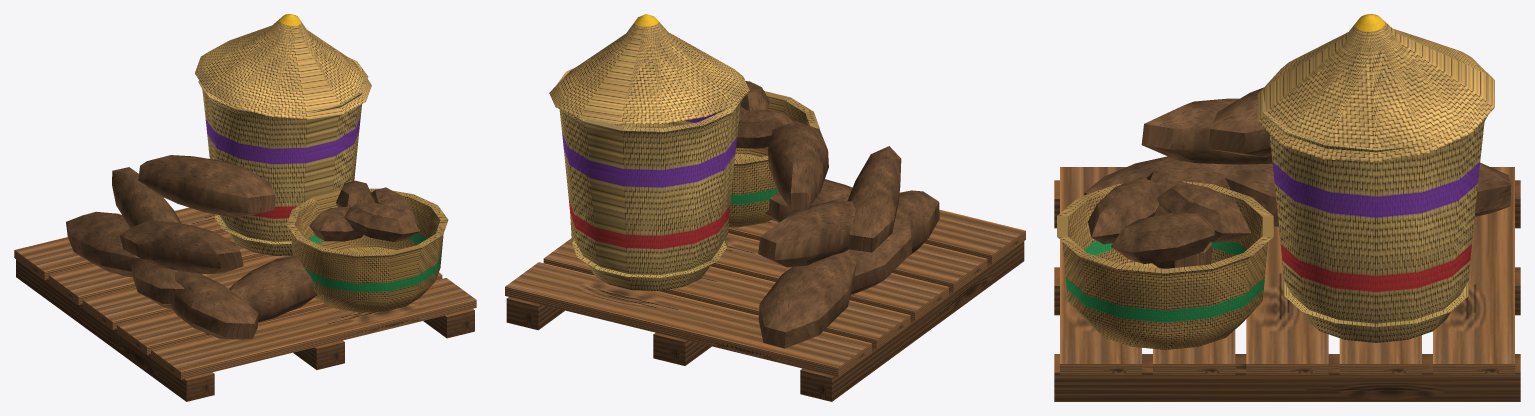
The model's file is mkt_soft_baskets.glb.
3 views of the same model, side by side, from view 1: azimuth 30°, elevation 25°; view 2: azimuth 150°, elevation 25°; view 3: azimuth 270°, elevation 25° (orthographic). The views are drawn at different scales.
Parts seen in each view (by area): view 1: mkt_soft_baskets_body; view 2: mkt_soft_baskets_body; view 3: mkt_soft_baskets_body.
Boxes of the visible parts, x1,y1,x2,y2 form: mkt_soft_baskets_body: [14, 14, 476, 401]; mkt_soft_baskets_body: [505, 14, 1025, 401]; mkt_soft_baskets_body: [1054, 14, 1520, 401].
Bounding box in the file's own units: 0.84 × 0.6789 × 0.84.
1 material, 1 textured.
